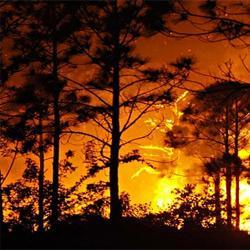fire: (154, 179, 173, 211), (242, 183, 250, 231)
